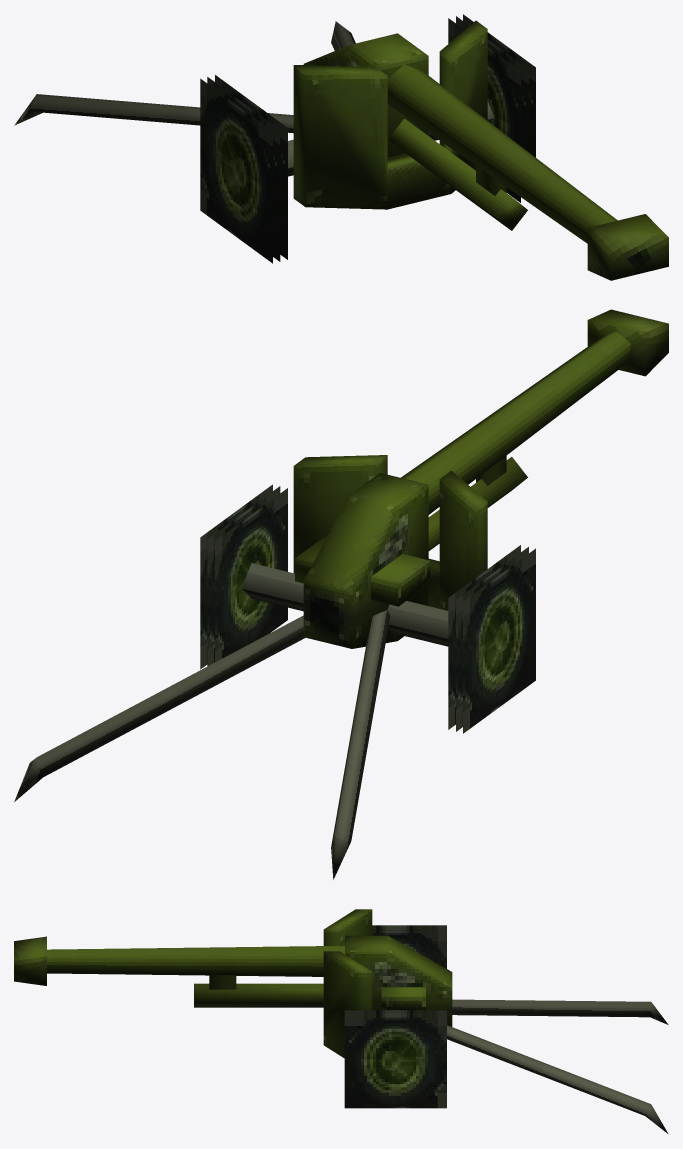
The model's file is artillery.glb.
3 views of the same model, one above another, from view 1: azimuth 30°, elevation 25°; view 2: azimuth 150°, elevation 25°; view 3: azimuth 270°, elevation 25° (orthographic). The views are drawn at different scales.
Parts seen in each view (by area): view 1: enemy_artillery; view 2: enemy_artillery; view 3: enemy_artillery.
Part boxes in pixels (bbox=[...]): enemy_artillery: bbox=[14, 14, 668, 280]; enemy_artillery: bbox=[14, 309, 668, 879]; enemy_artillery: bbox=[14, 909, 668, 1133].
Bounding box in the file's own units: 3.58 × 2.12 × 9.
1 material, 1 textured.
